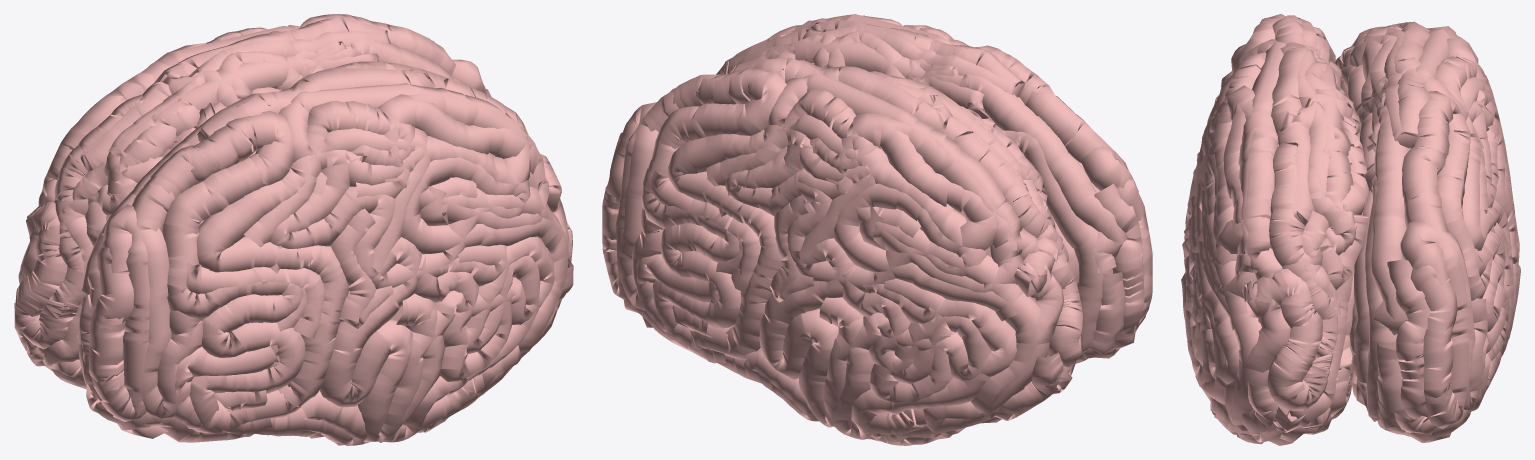
The model's file is human brain.fbx.
3 views of the same model, side by side, from view 1: azimuth 30°, elevation 25°; view 2: azimuth 150°, elevation 25°; view 3: azimuth 270°, elevation 25° (orthographic). The views are drawn at different scales.
Visible parts, largest first — view 1: smoothskin1Main, smoothskin1Main2; view 2: smoothskin1Main2, smoothskin1Main; view 3: smoothskin1Main, smoothskin1Main2.
Boxes of the visible parts, box(x1,y1,x2,y2) form: smoothskin1Main: box(78, 61, 573, 445); smoothskin1Main2: box(14, 14, 491, 389); smoothskin1Main2: box(602, 58, 1082, 445); smoothskin1Main: box(716, 14, 1152, 363); smoothskin1Main: box(1181, 14, 1368, 445); smoothskin1Main2: box(1335, 21, 1520, 442).
Size of the model in its own units: 6.63 by 4.7 by 4.04.
